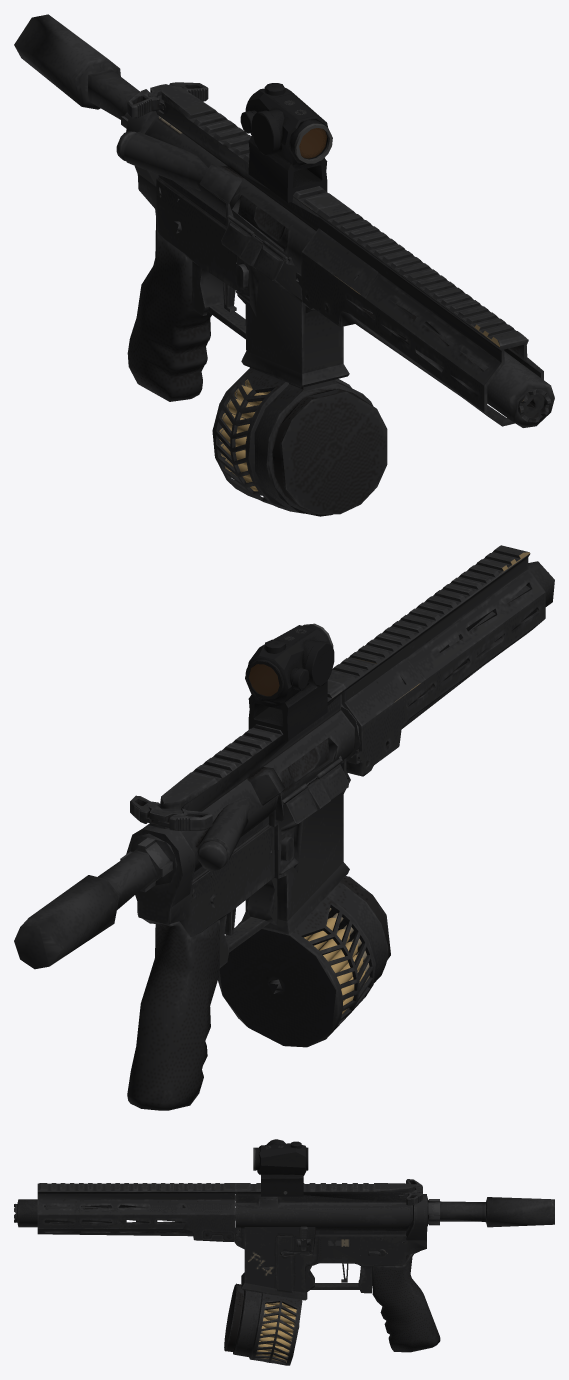
File: gun_arp.glb
3 views of the same model, one above another, from view 1: azimuth 30°, elevation 25°; view 2: azimuth 150°, elevation 25°; view 3: azimuth 270°, elevation 25° (orthographic). The views are drawn at different scales.
Visible parts, largest first — view 1: Reciever, Front Rail, Magazine, Pistol Grip, Red Dot Sight, Barrel _AR 15 Compact_0, Dust Cover, Cocking Handle, Bolt; view 2: Reciever, Front Rail, Magazine, Pistol Grip, Red Dot Sight, Dust Cover, Cocking Handle, Bolt, Barrel _AR 15 Compact_0, Forvard Assist; view 3: Reciever, Front Rail, Pistol Grip, Magazine, Red Dot Sight, Barrel _AR 15 Compact_0, Cocking Handle.
Part boxes in pixels (left/top/right/bottom): Reciever: left=14, top=14, right=349, bottom=387; Front Rail: left=295, top=203, right=543, bottom=426; Magazine: left=212, top=367, right=387, bottom=516; Pistol Grip: left=127, top=218, right=211, bottom=401; Red Dot Sight: left=240, top=83, right=332, bottom=202; Barrel _AR 15 Compact_0: left=392, top=301, right=554, bottom=427; Dust Cover: left=221, top=215, right=287, bottom=280; Cocking Handle: left=127, top=82, right=208, bottom=118; Bolt: left=238, top=195, right=288, bottom=249; Reciever: left=14, top=680, right=354, bottom=969; Front Rail: left=328, top=545, right=545, bottom=776; Magazine: left=218, top=876, right=390, bottom=1047; Pistol Grip: left=127, top=920, right=219, bottom=1110; Red Dot Sight: left=245, top=623, right=334, bottom=740; Dust Cover: left=282, top=758, right=348, bottom=823; Cocking Handle: left=130, top=795, right=212, bottom=830; Bolt: left=281, top=739, right=329, bottom=792; Barrel _AR 15 Compact_0: left=434, top=561, right=554, bottom=671; Forvard Assist: left=197, top=841, right=227, bottom=870; Reciever: left=234, top=1183, right=554, bottom=1300; Front Rail: left=37, top=1183, right=240, bottom=1241; Pistol Grip: left=372, top=1251, right=440, bottom=1352; Magazine: left=224, top=1283, right=302, bottom=1365; Red Dot Sight: left=253, top=1139, right=308, bottom=1196; Barrel _AR 15 Compact_0: left=14, top=1199, right=235, bottom=1227; Cocking Handle: left=398, top=1179, right=422, bottom=1205.
Bounding box in the file's own units: 4.46 × 13.98 × 31.23.
Materials: 2 (2 with a texture image).
